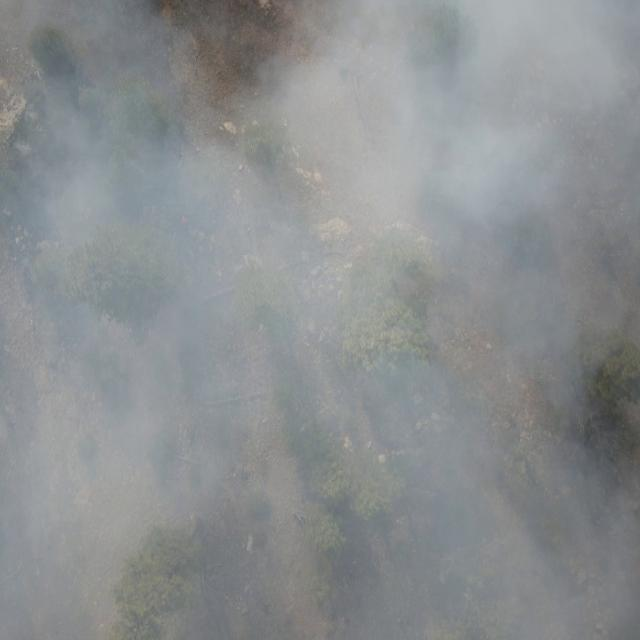fire: (178, 212, 190, 228)
smoke: (0, 0, 640, 640)
